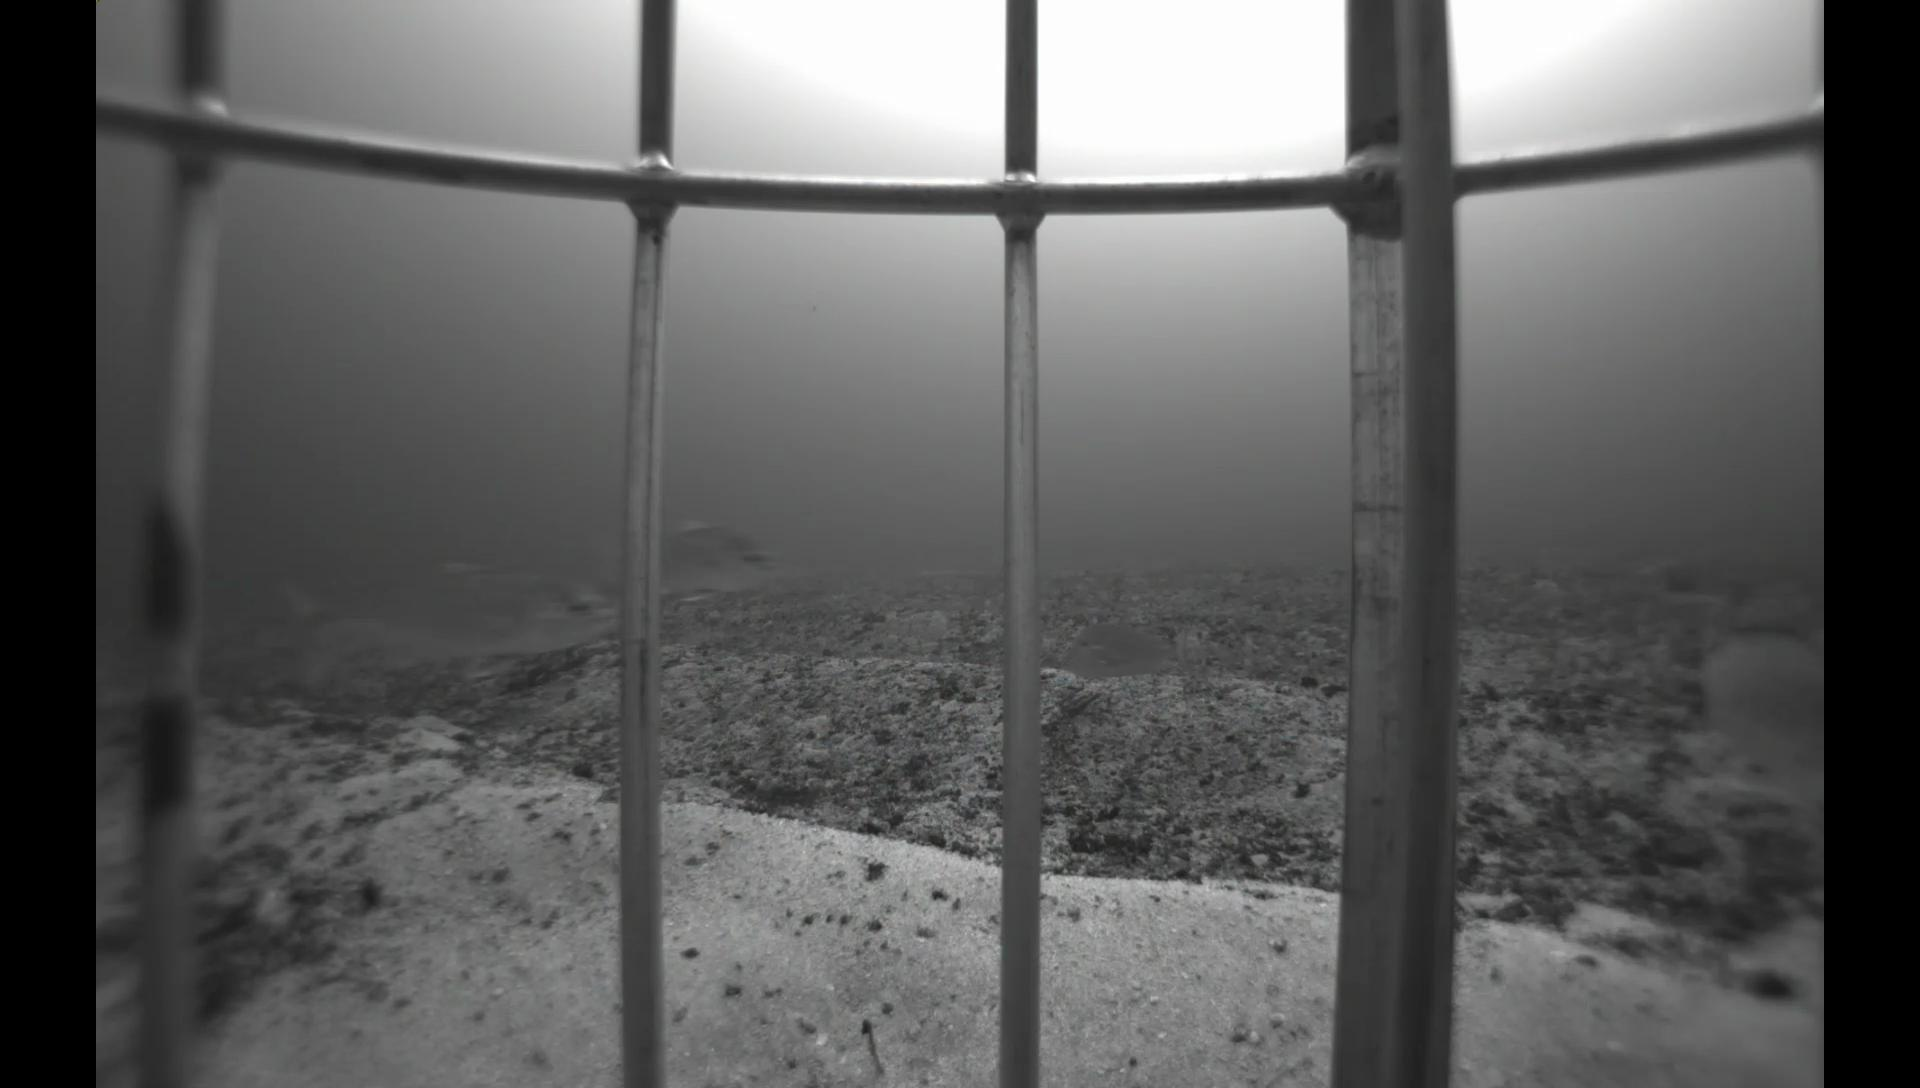CALAMUSPRORIDENS-170210605: (1058, 615, 1195, 680)
RHOMBOPLITESAURORUBENS-170152001: (1659, 615, 1828, 803)
SERIOLAFASCIATA-170113103: (253, 545, 622, 686), (662, 516, 790, 607)
